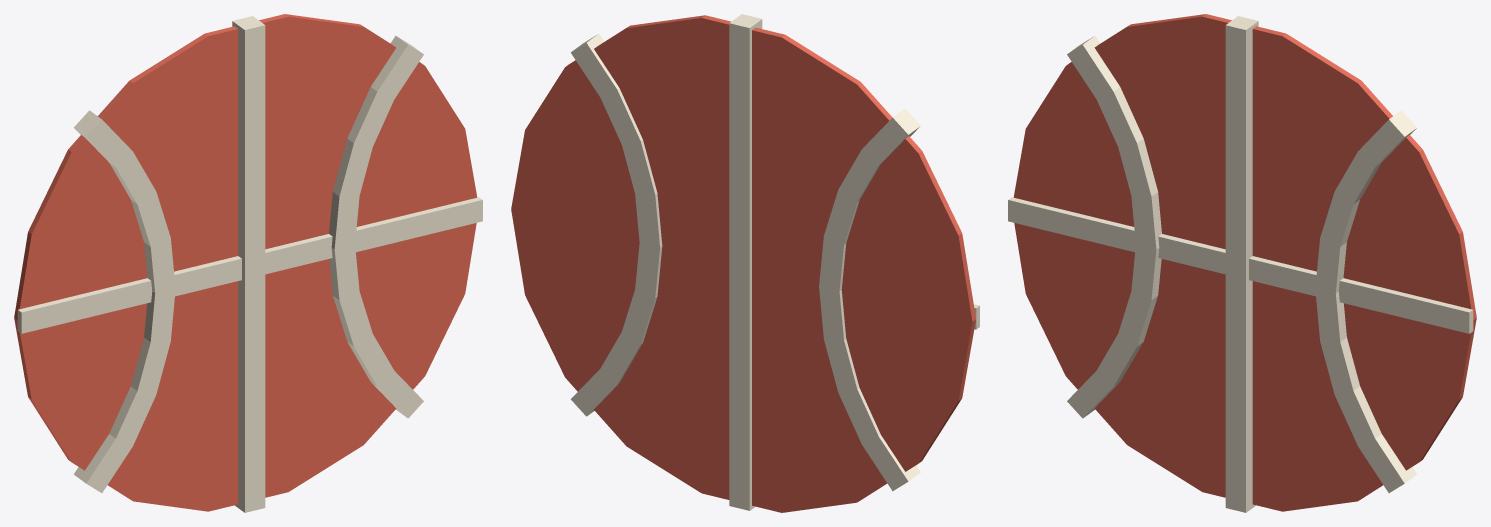
The model's file is icon_basketball.glb.
The picture shows the model from 3 angles, left to right: view 1: azimuth 30°, elevation 25°; view 2: azimuth 150°, elevation 25°; view 3: azimuth 330°, elevation 25°; orthographic projection.
Visible parts, largest first — view 1: icon_basketball; view 2: icon_basketball; view 3: icon_basketball.
Boxes of the visible parts, x1=… form: icon_basketball: x1=14, y1=14, x2=482, y2=512; icon_basketball: x1=511, y1=14, x2=979, y2=512; icon_basketball: x1=1008, y1=14, x2=1476, y2=512.
Size of the model in its own units: 0.36 by 0.36 by 0.017.
